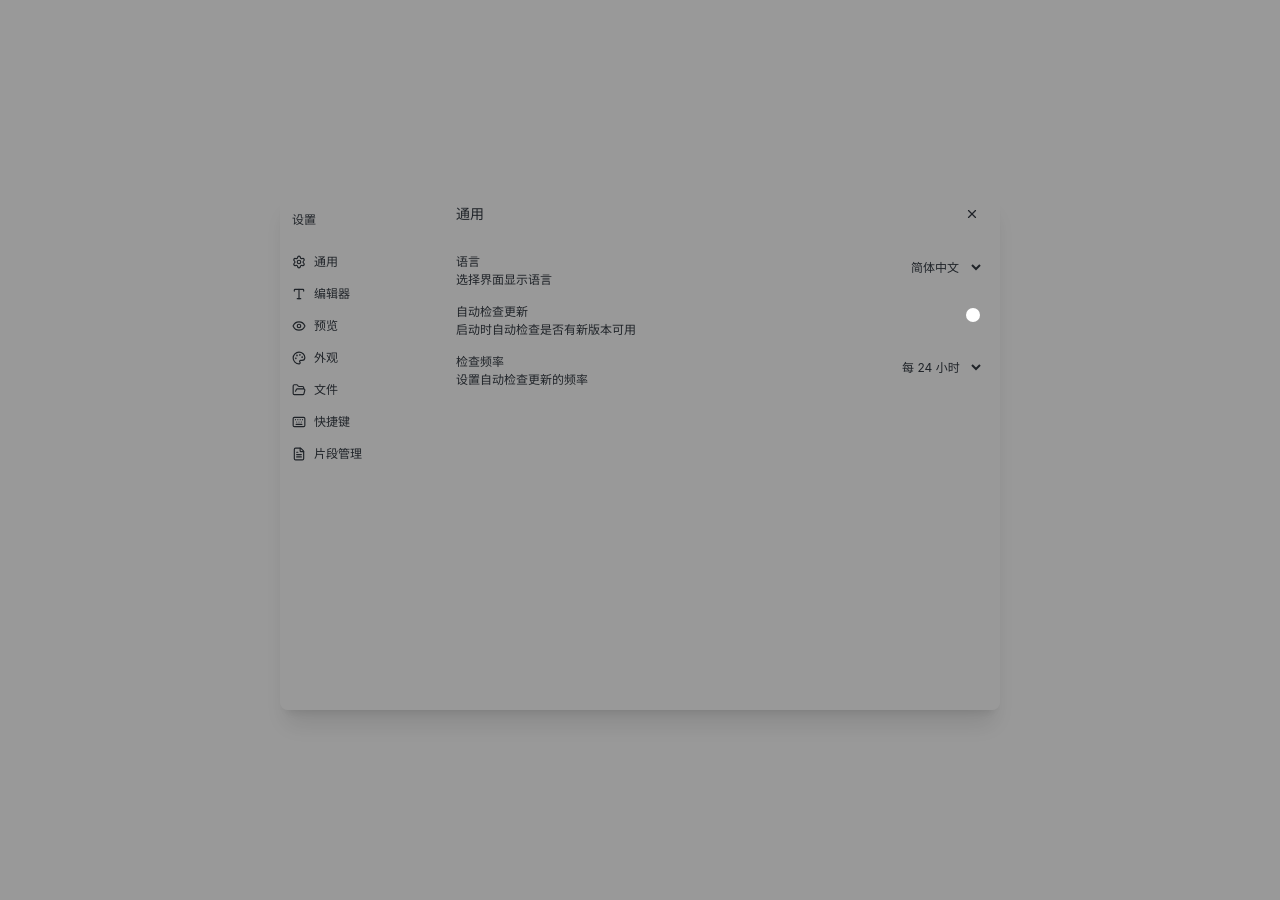
Test: ShortcutSettings › Shortcuts Tab Rendering › should switch to shortcuts tab when clicked
// Click the shortcuts tab
Click the button "快捷键" at (360, 422), box top-left (280, 406), bottom-right (440, 438)
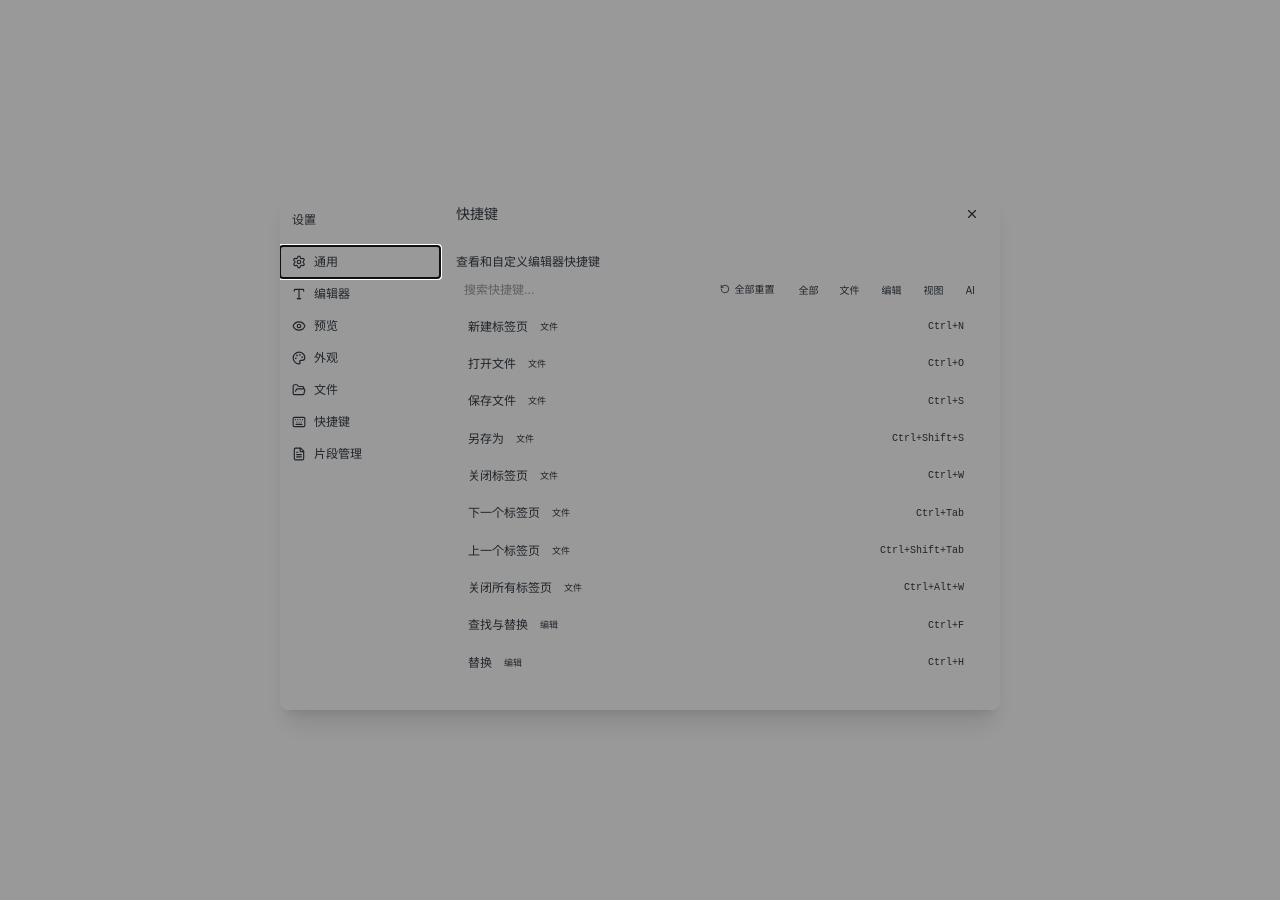
Expected: the text "新建标签页" is shown, top-left (468, 319), bottom-right (528, 335)
Expected: the text "Ctrl+N" is shown, top-left (928, 321), bottom-right (964, 332)
